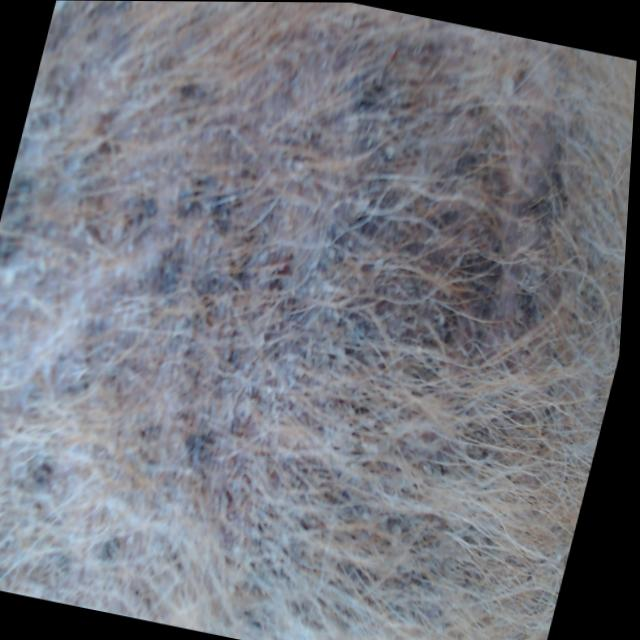demodicosis: (8, 1, 553, 578)
